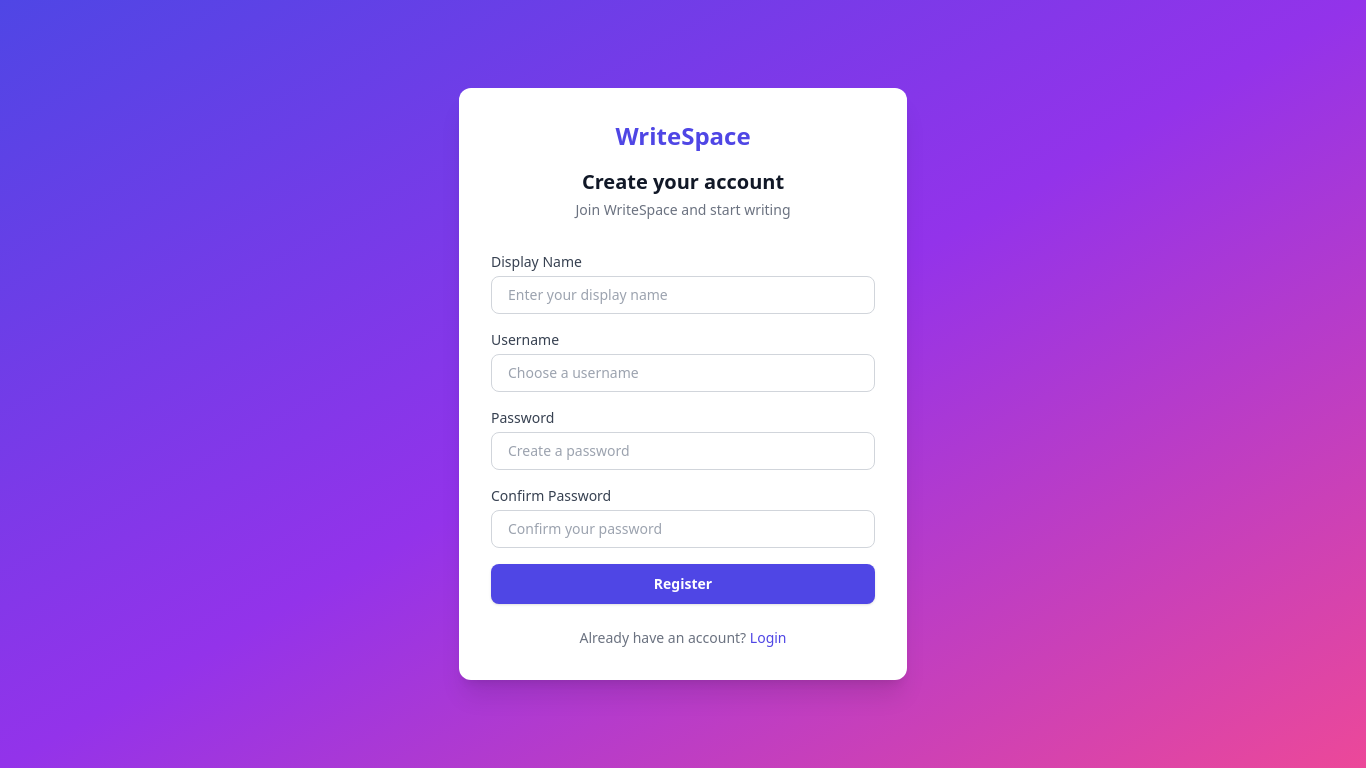
Scenario: RegisterPage › validation: required fields › displays error when username is empty
In the field labelled "Display Name": (683, 295) x1=491 y1=276 x2=875 y2=314, type "New User"
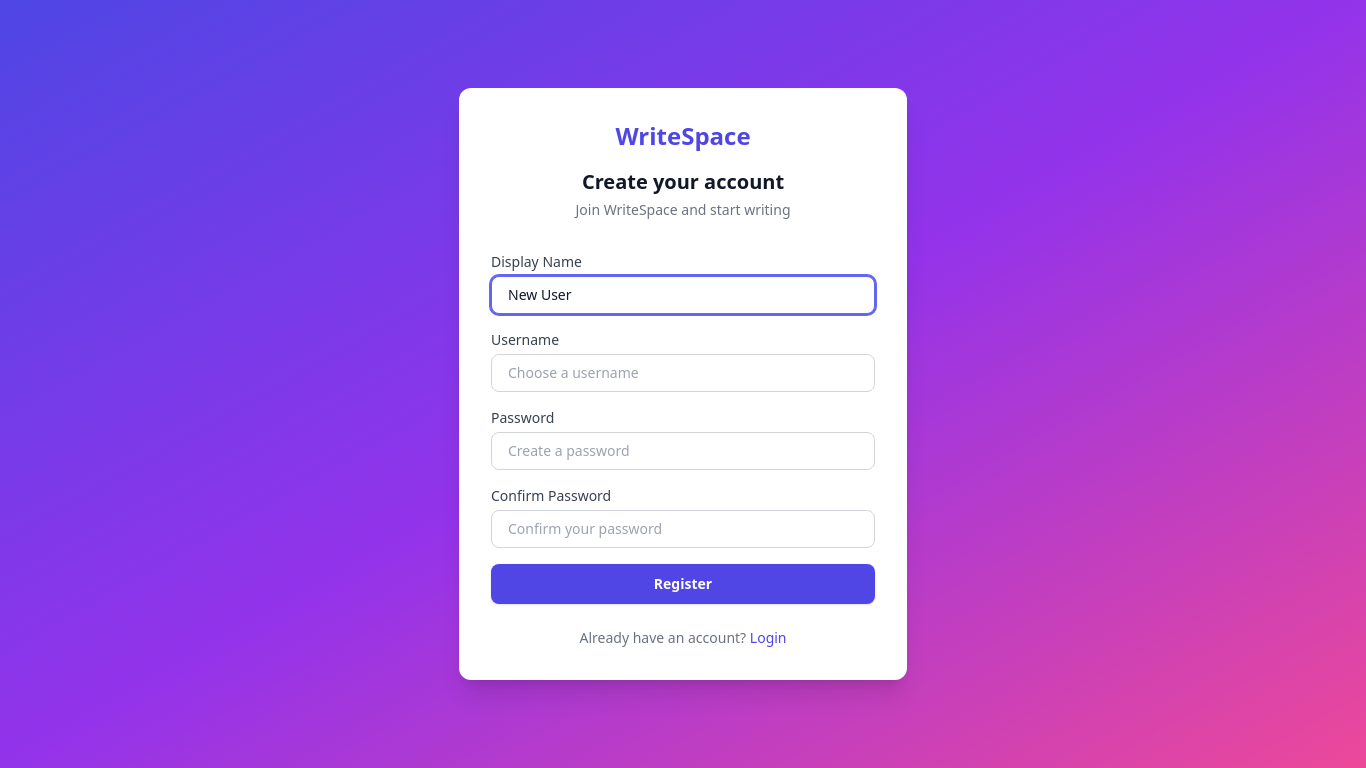
In the password field labelled "Password": (683, 451) x1=491 y1=432 x2=875 y2=470, type "newpass"
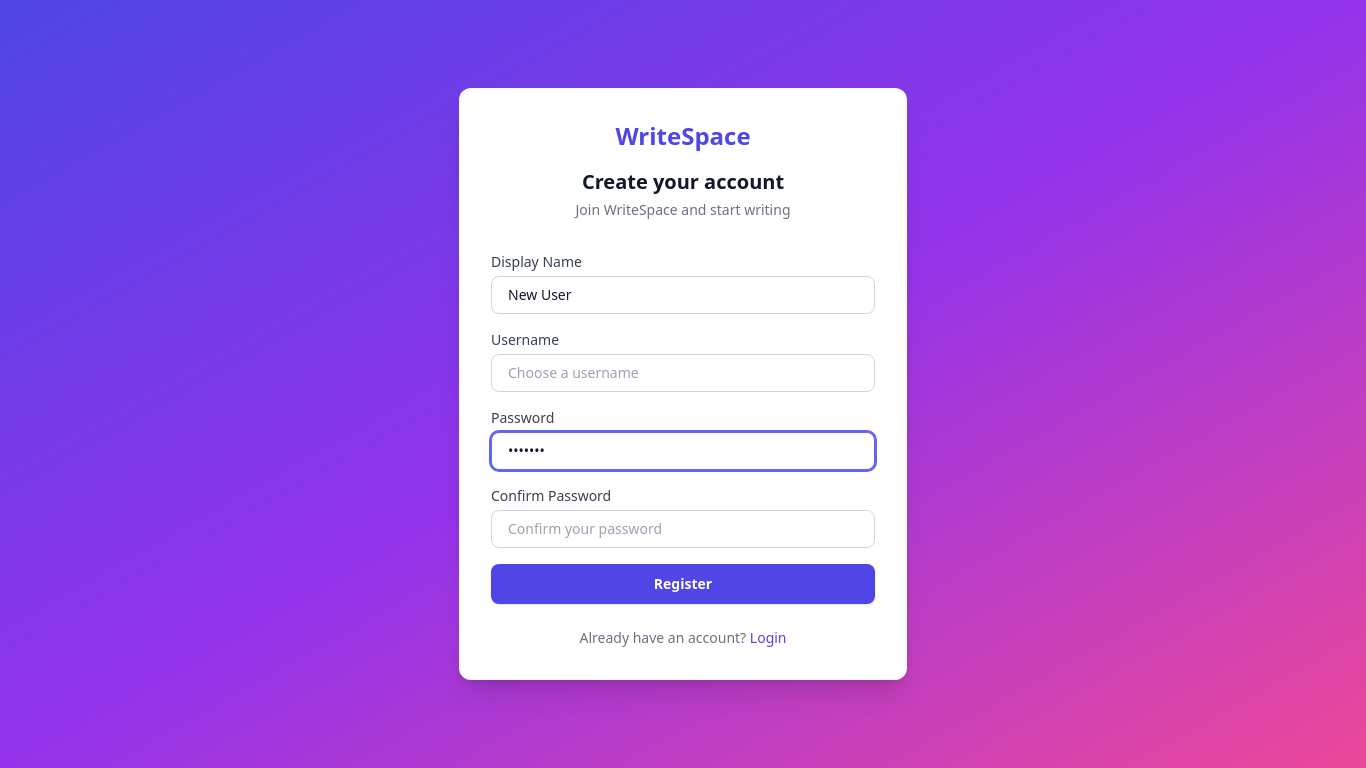
In the password field labelled "Confirm Password": (683, 529) x1=491 y1=510 x2=875 y2=548, type "newpass"
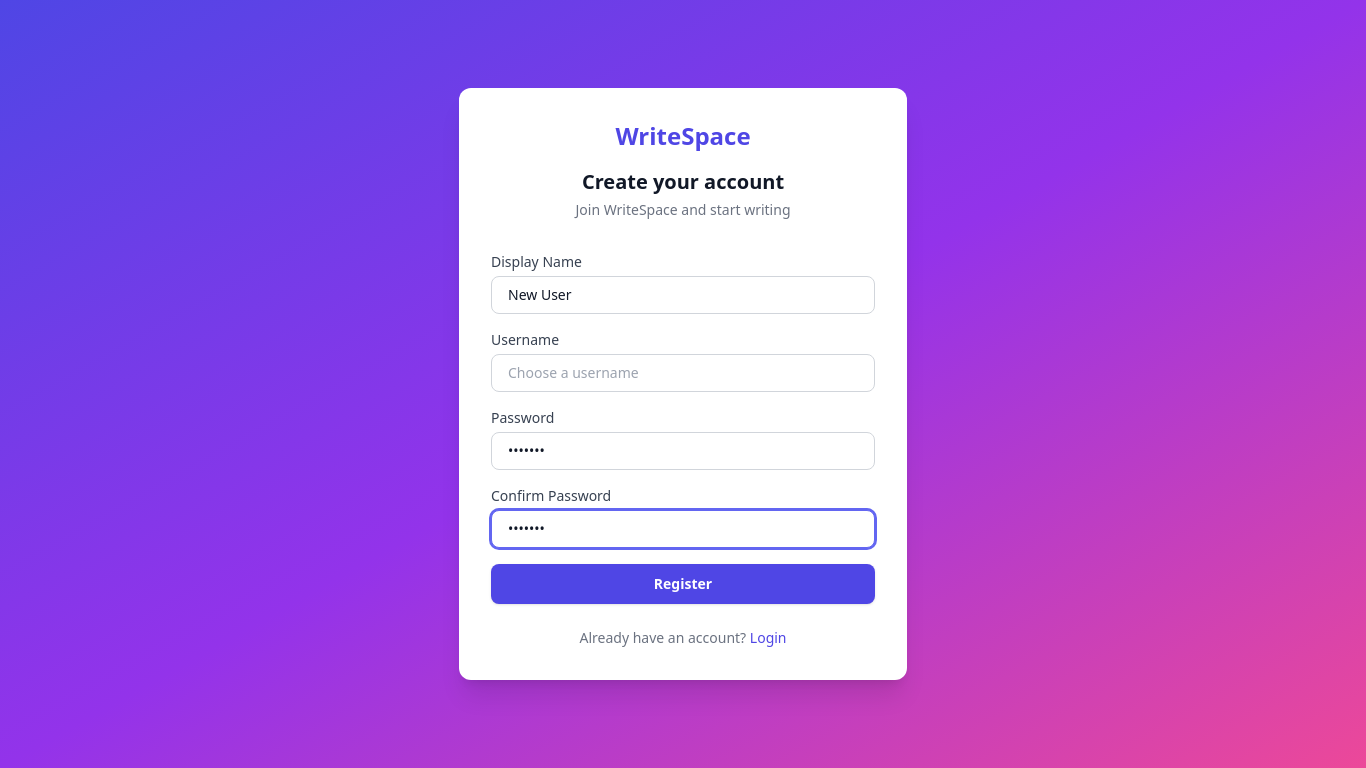
Click the button "Register": (683, 584) x1=491 y1=564 x2=875 y2=604
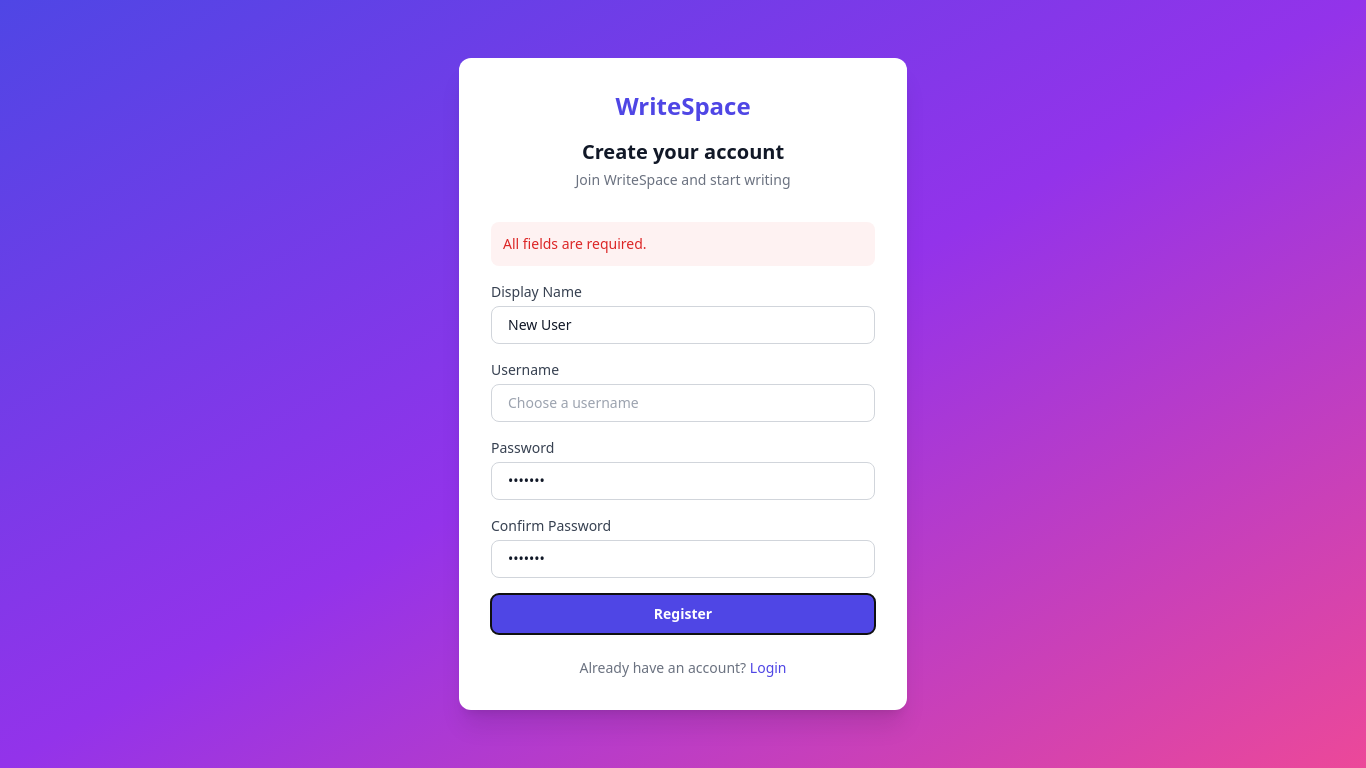
Now the text "All fields are required." is shown, box x1=491 y1=222 x2=875 y2=266
